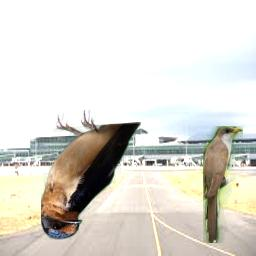Cuckoo: (203, 126, 243, 243)
Swallow: (41, 110, 141, 240)
